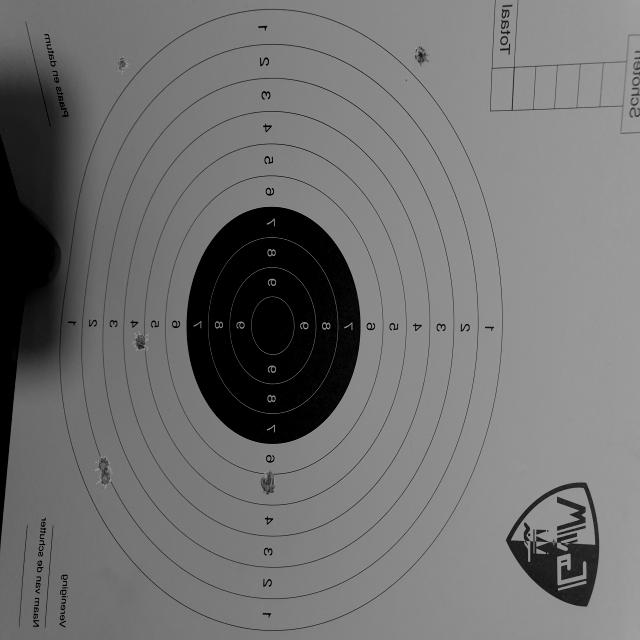0: (414, 42, 430, 66), (118, 56, 130, 75)
2: (96, 473, 113, 489), (95, 456, 112, 472)
5: (133, 330, 149, 352)
6: (260, 470, 276, 494)
Target: (61, 6, 503, 632)
black_contour: (187, 206, 360, 443)
